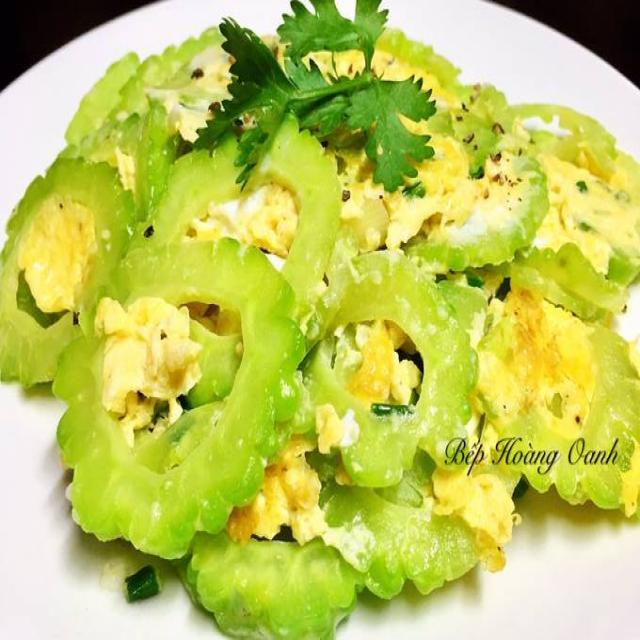kho qua: (0, 28, 639, 639)
